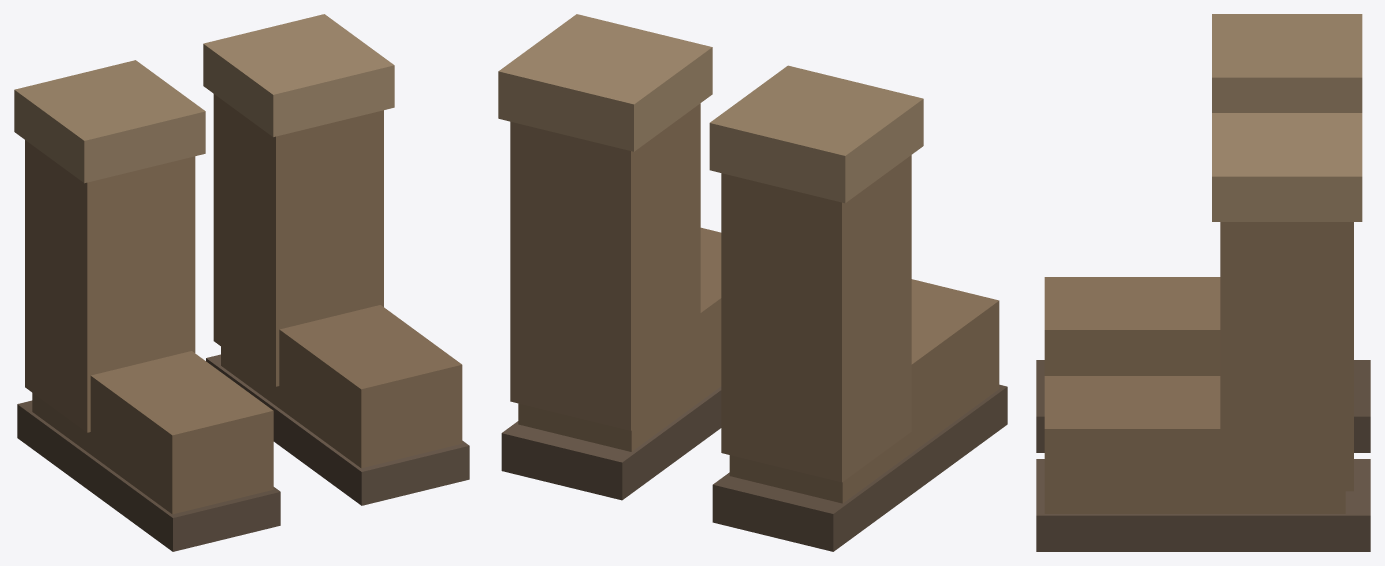
Rendered from traveler_boots.glb.
The picture shows the model from 3 angles, left to right: view 1: azimuth 30°, elevation 25°; view 2: azimuth 150°, elevation 25°; view 3: azimuth 270°, elevation 25°; orthographic projection. The views are drawn at different scales.
Parts seen in each view (by area): view 1: traveler_boots; view 2: traveler_boots; view 3: traveler_boots.
Part boxes in pixels (x1,y1,x2,y2): traveler_boots: (14,14,469,551); traveler_boots: (498,14,1007,551); traveler_boots: (1036,14,1370,551).
Bounding box in the file's own units: 0.23 × 0.25 × 0.2.
